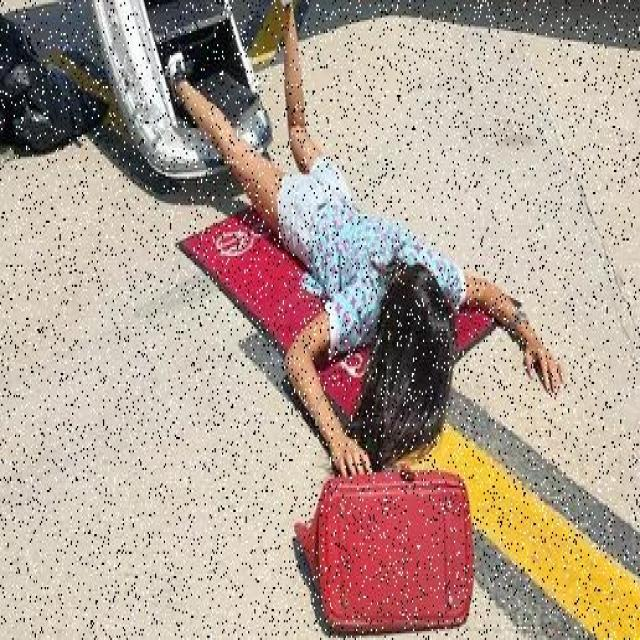fall: (203, 24, 546, 426)
